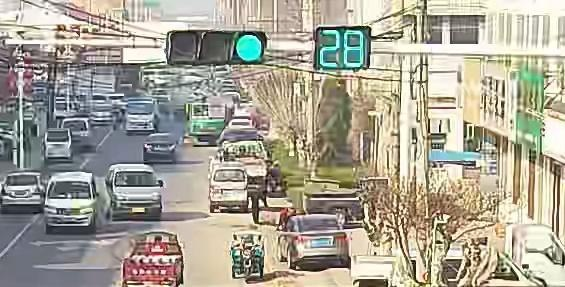green: (235, 31, 264, 64)
greentime: (318, 28, 367, 68)
